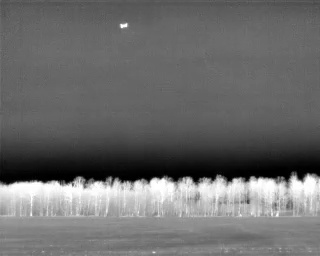DRONE: (116, 19, 133, 34)
